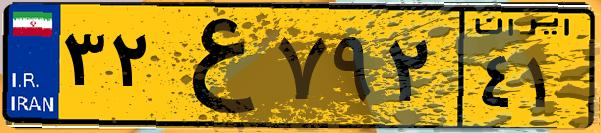1: (525, 38, 570, 115)
2: (385, 28, 445, 110), (110, 28, 158, 98)
3: (57, 26, 110, 100)
4: (475, 38, 525, 113)
7: (270, 28, 330, 110)
9: (330, 28, 385, 110)
ع: (158, 12, 270, 120)
